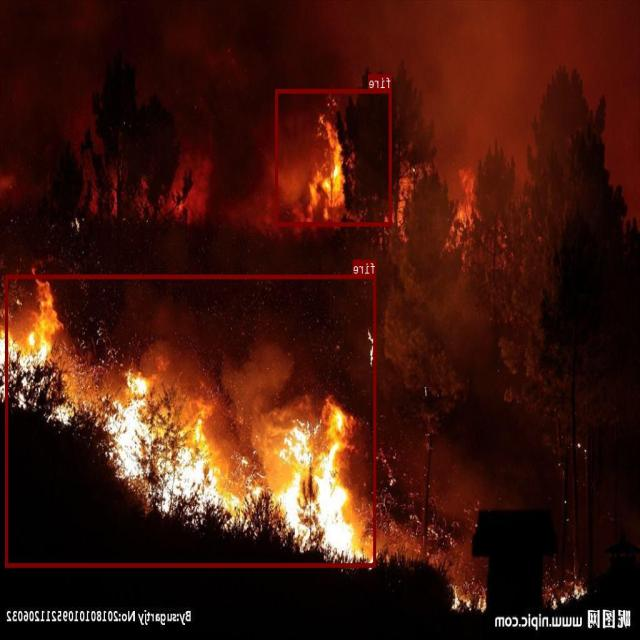fire: (6, 274, 376, 567), (276, 89, 392, 225)
